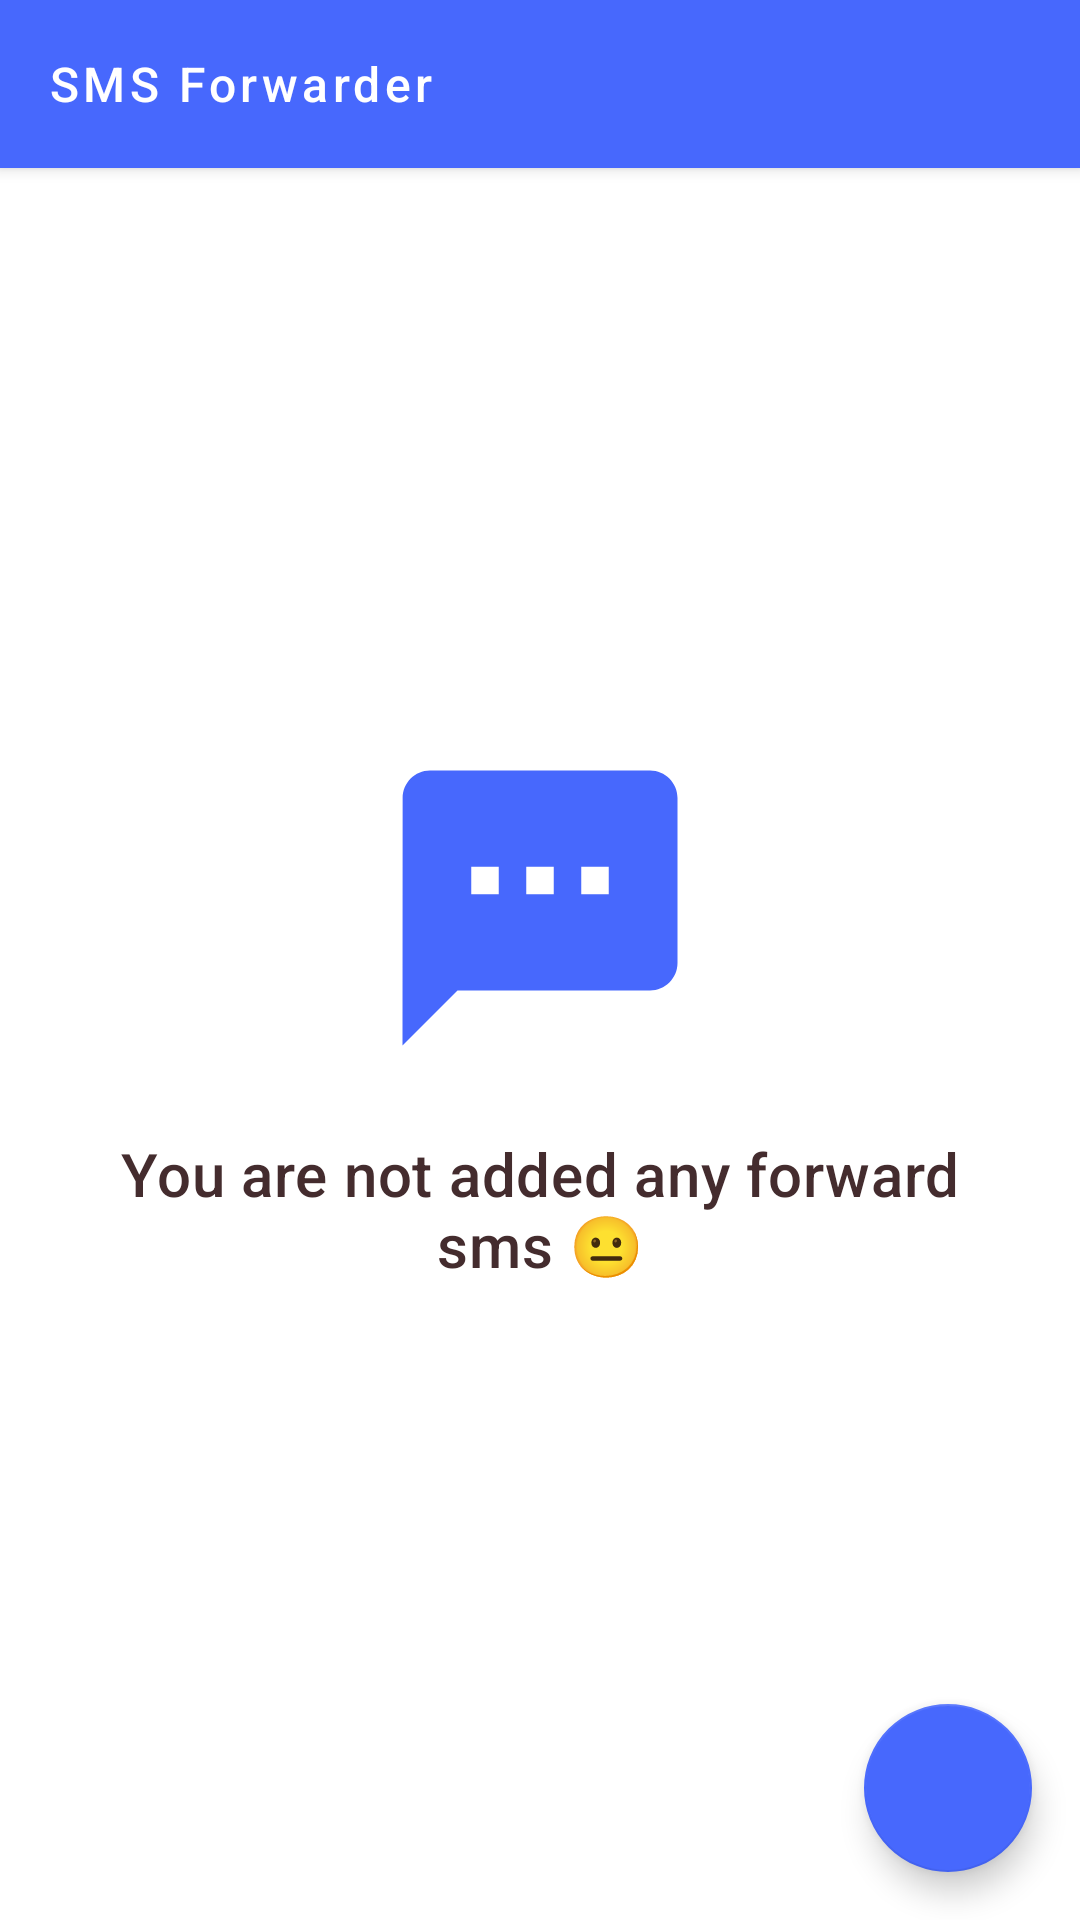

Point at icon controls on the screen. Image size 1080x1920, points as [x,y].
textsms: [540,907]
